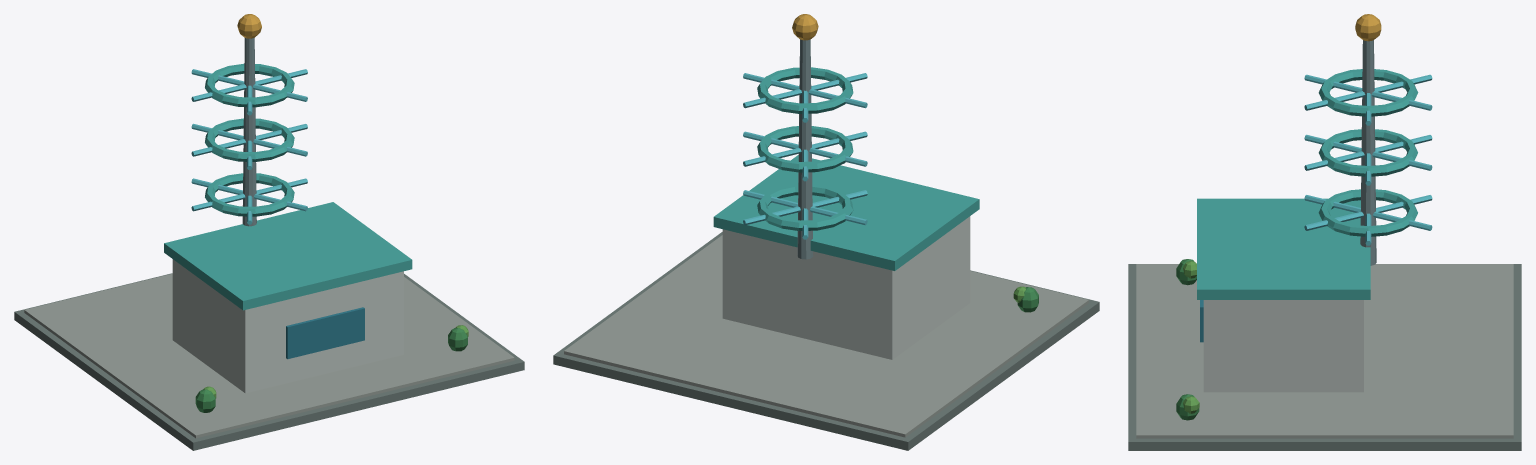
File: uv_station_lv1.glb
The picture shows the model from 3 angles, left to right: view 1: azimuth 30°, elevation 25°; view 2: azimuth 150°, elevation 25°; view 3: azimuth 270°, elevation 25°; orthographic projection. The views are drawn at different scales.
Visible parts, largest first — view 1: rough, glossy, metallic; view 2: rough, glossy, metallic; view 3: rough, glossy, metallic.
Part boxes in pixels (x1=…): rough: x1=14, y1=14, x2=524, y2=450; glossy: x1=191, y1=69, x2=364, y2=359; metallic: x1=242, y1=38, x2=256, y2=226; rough: x1=553, y1=14, x2=1099, y2=450; glossy: x1=743, y1=73, x2=867, y2=239; metallic: x1=797, y1=39, x2=813, y2=259; rough: x1=1128, y1=14, x2=1521, y2=450; glossy: x1=1200, y1=74, x2=1432, y2=342; metallic: x1=1360, y1=40, x2=1376, y2=265.
Bounding box in the file's own units: 9.2 × 8.37 × 8.6.
